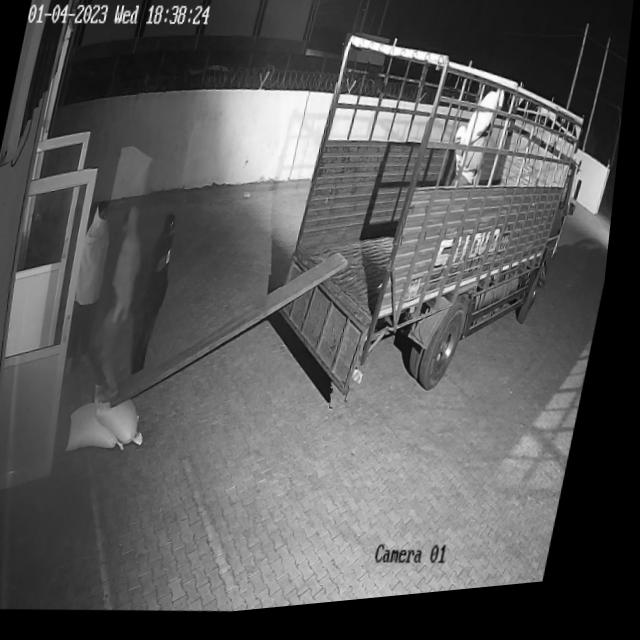sack: (93, 381, 163, 453), (72, 400, 143, 459), (467, 96, 507, 159)
